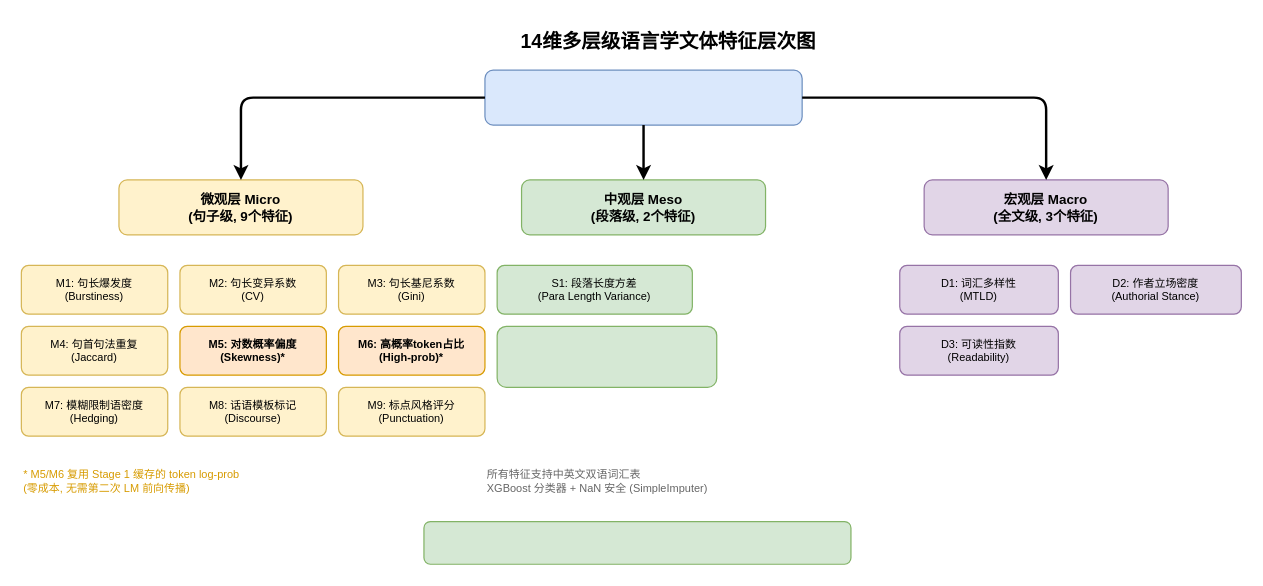
The diagram is 1263 pixels wide and 586 high, and some of its shapes have lost their labels. Here are the shapes that lost their labels. From the top down, the box of each, then its label:
(484, 69, 802, 125): 14维语言学特征引擎 (纯CPU, 零GPU依赖)
(496, 325, 717, 387): S2: 段落模板评分 (Template Score) 检测: 背景→方法→结果→结论
(423, 520, 851, 564): EN ROC-AUC: 0.9087 | ZH ROC-AUC: 0.7433
